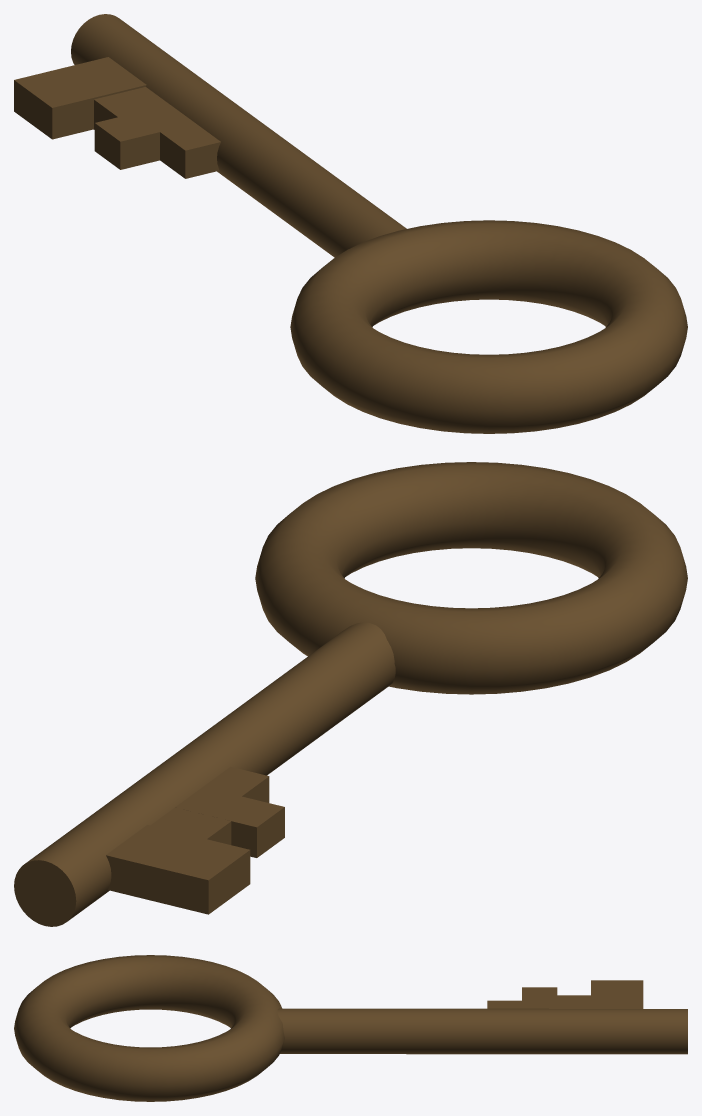
The model's file is kagi.fbx.
3 renders of one model, top to bottom at view 1: azimuth 30°, elevation 25°; view 2: azimuth 150°, elevation 25°; view 3: azimuth 270°, elevation 25°, orthographic. The views are drawn at different scales.
Parts seen in each view (by area): view 1: トーラス, 円柱.001, 立方体, 立方体.002, 立方体.003, 立方体.001; view 2: トーラス, 円柱.001, 立方体, 立方体.002, 立方体.001, 立方体.003; view 3: トーラス, 円柱.001, 立方体, 立方体.002, 立方体.001, 立方体.003.
Boxes of the visible parts, x1,y1,x2,y2 form: トーラス: [290, 220, 687, 433]; 円柱.001: [71, 14, 406, 257]; 立方体: [14, 57, 146, 139]; 立方体.002: [94, 104, 195, 169]; 立方体.003: [160, 123, 220, 178]; 立方体.001: [94, 87, 169, 129]; トーラス: [255, 462, 687, 694]; 円柱.001: [14, 622, 395, 926]; 立方体: [106, 825, 250, 914]; 立方体.002: [175, 787, 284, 857]; 立方体.001: [150, 807, 231, 844]; 立方体.003: [203, 766, 269, 802]; トーラス: [14, 955, 284, 1101]; 円柱.001: [277, 1008, 687, 1054]; 立方体: [591, 980, 643, 1008]; 立方体.002: [522, 987, 557, 1008]; 立方体.001: [557, 995, 590, 1008]; 立方体.003: [487, 1000, 521, 1008].
Bounding box in the file's own units: 54.83 × 10.97 × 135.
